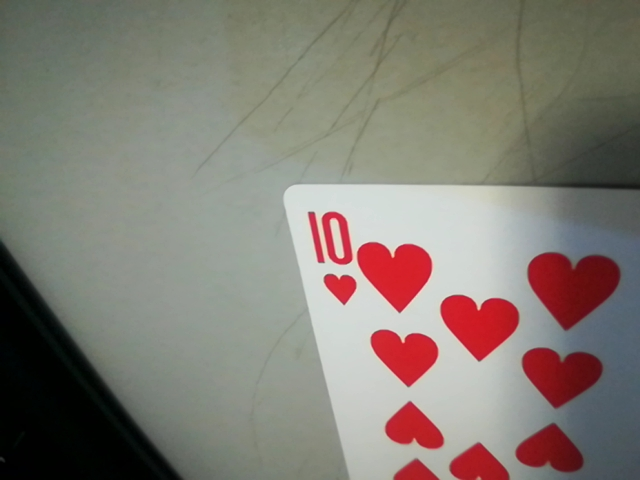hx 10: (295, 199, 361, 313)
